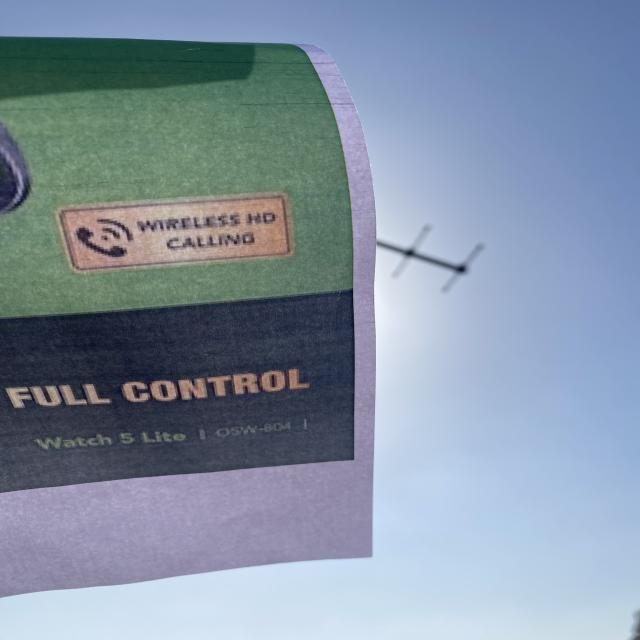Watch 5 Lite OSW-804: (24, 412, 313, 460)
